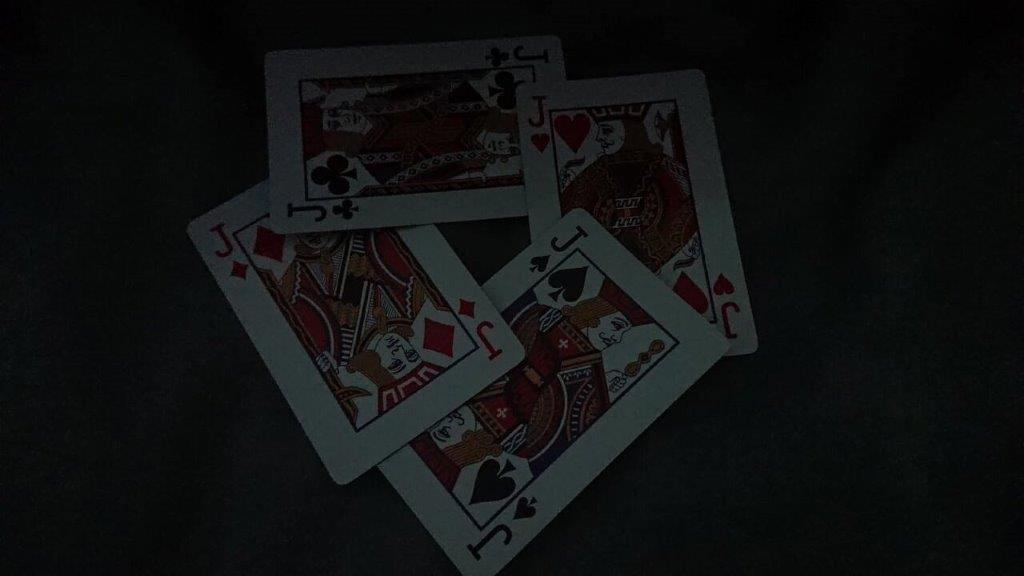JD: (201, 210, 257, 288)
JH: (520, 83, 568, 163)
JS: (520, 216, 592, 289)
